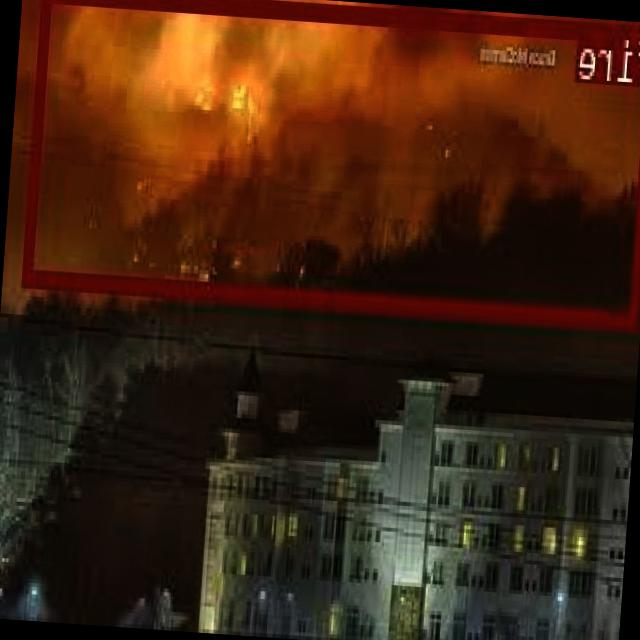fire: (23, 0, 640, 323)
